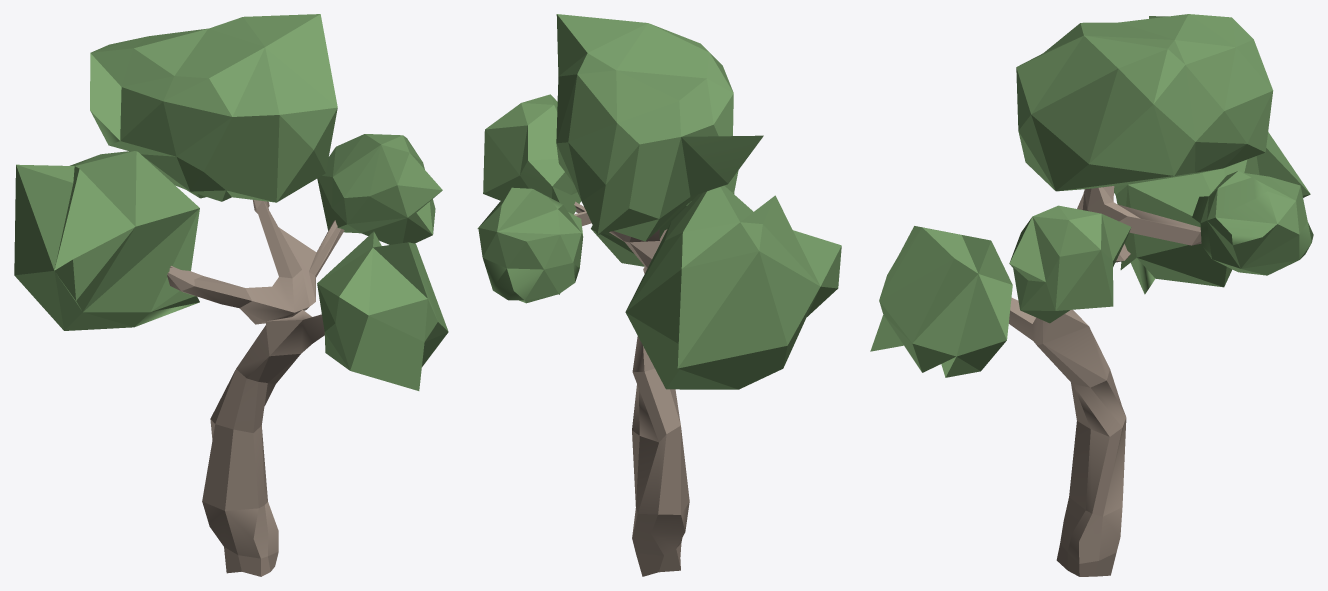
File: tree2.fbx
3 views of the same model, side by side, from view 1: azimuth 30°, elevation 25°; view 2: azimuth 150°, elevation 25°; view 3: azimuth 270°, elevation 25° (orthographic). The views are drawn at different scales.
Visible parts, largest first — view 1: pSolid32, pSolid30, pCube7, pSolid29, pSolid31; view 2: pSolid32, pSolid30, pCube7, pSolid28, pSolid31, pSolid29; view 3: pSolid32, pCube7, pSolid29, pSolid31, pSolid28, pSolid30.
Boxes of the visible parts, x1=… form: pSolid32: x1=90, y1=14, x2=337, y2=202; pSolid30: x1=14, y1=151, x2=199, y2=330; pCube7: x1=167, y1=200, x2=344, y2=576; pSolid29: x1=317, y1=231, x2=448, y2=390; pSolid31: x1=317, y1=134, x2=442, y2=244; pSolid32: x1=556, y1=14, x2=763, y2=241; pSolid30: x1=625, y1=185, x2=841, y2=389; pCube7: x1=573, y1=201, x2=689, y2=576; pSolid28: x1=477, y1=187, x2=583, y2=303; pSolid31: x1=483, y1=94, x2=581, y2=214; pSolid29: x1=591, y1=170, x2=738, y2=266; pSolid32: x1=1016, y1=14, x2=1273, y2=191; pCube7: x1=1008, y1=186, x2=1201, y2=576; pSolid29: x1=870, y1=226, x2=1012, y2=377; pSolid31: x1=1009, y1=205, x2=1131, y2=323; pSolid28: x1=1192, y1=171, x2=1313, y2=275; pSolid30: x1=1114, y1=132, x2=1310, y2=294.
Size of the model in its own units: 8.13 by 11.77 by 8.64.
